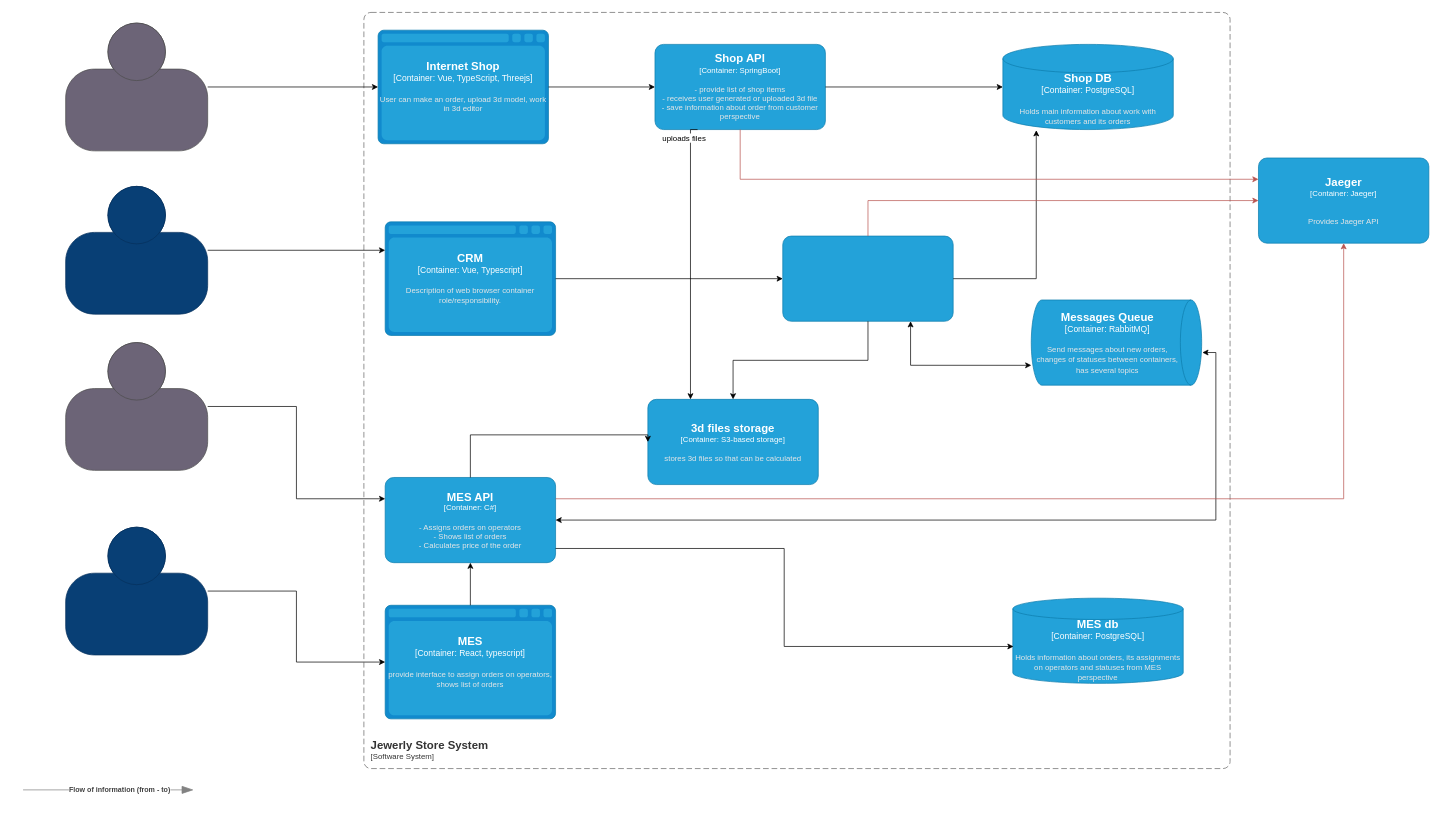
Some shapes in this 1441 by 814 pixel diagram are drawn without their labels. The shapes that lost their labels are listed below. From the top down, each one's centre as x and y in pixels, then its label:
At (x=136, y=86): "Customer [Person] Description of external person.".
At (x=136, y=250): "Seller [Person] Operates with order, confirms manufacturing for the user".
At (x=867, y=278): "CRM API [Container: SpringBoot] Description of container role/responsibility.".
At (x=136, y=406): "API user [Person] Description of external person.".
At (x=136, y=590): "Operator [Person] Takes order in work, manufactures jewerly".
